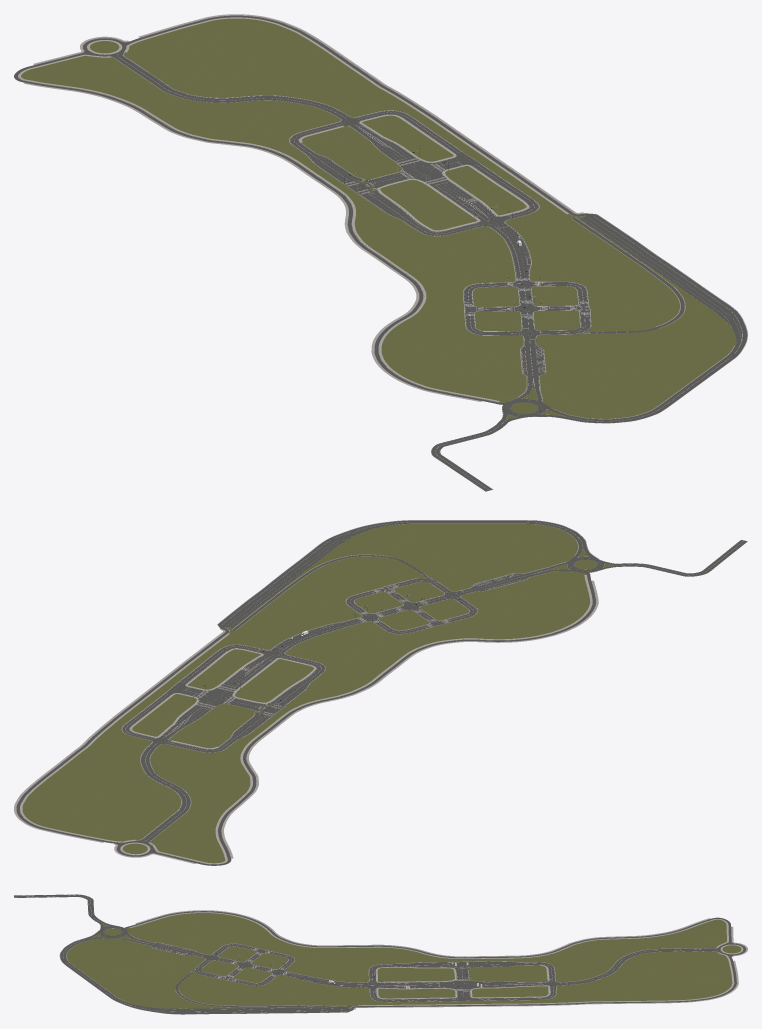
File: k_city.fbx
3 views of the same model, one above another, from view 1: azimuth 30°, elevation 25°; view 2: azimuth 150°, elevation 25°; view 3: azimuth 270°, elevation 25° (orthographic). The views are drawn at different scales.
Visible parts, largest first — view 1: Terrain_Ground_Layer0_3Node, Terrain_Ground_Layer0_5Node, Roads_Road_Layer0_3Node, Terrain_Ground_Layer0_2Node, Terrain_Ground_Layer0_1Node, Roads_Road_Layer0_5Node, Terrain_Ground_Layer0_4Node, Roads_Sidewalk_Layer0_1Node, Roads_Gutter_Layer0_3Node, Roads_Sidewalk_Layer0_3Node, Roads_Marking_Layer0_3Node, Roads_Road_Layer0Node (+9 smaller); view 2: Terrain_Ground_Layer0_3Node, Terrain_Ground_Layer0_5Node, Roads_Road_Layer0_3Node, Terrain_Ground_Layer0_2Node, Terrain_Ground_Layer0_1Node, Roads_Road_Layer0_5Node, Terrain_Ground_Layer0_4Node, Roads_Sidewalk_Layer0_1Node, Roads_Gutter_Layer0_3Node, Roads_Sidewalk_Layer0_3Node, Roads_Marking_Layer0_3Node, Roads_Road_Layer0Node (+9 smaller); view 3: Terrain_Ground_Layer0_3Node, Terrain_Ground_Layer0_5Node, Roads_Road_Layer0_3Node, Terrain_Ground_Layer0_2Node, Terrain_Ground_Layer0_1Node, Roads_Road_Layer0_5Node, Terrain_Ground_Layer0_4Node, Roads_Sidewalk_Layer0_1Node, Roads_Sidewalk_Layer0_3Node, Roads_Marking_Layer0_3Node, Roads_Gutter_Layer0_3Node, Roads_Road_Layer0Node (+9 smaller).
Boxes of the visible parts, <box> form: Terrain_Ground_Layer0_3Node: <box>312,136,736,390</box>; Terrain_Ground_Layer0_5Node: <box>90,18,453,170</box>; Roads_Road_Layer0_3Node: <box>306,134,747,378</box>; Terrain_Ground_Layer0_2Node: <box>381,297,554,402</box>; Terrain_Ground_Layer0_1Node: <box>555,347,732,418</box>; Roads_Road_Layer0_5Node: <box>83,15,459,171</box>; Terrain_Ground_Layer0_4Node: <box>21,55,209,138</box>; Roads_Sidewalk_Layer0_1Node: <box>304,134,583,334</box>; Roads_Gutter_Layer0_3Node: <box>306,134,747,379</box>; Roads_Sidewalk_Layer0_3Node: <box>81,14,462,172</box>; Roads_Marking_Layer0_3Node: <box>326,141,742,376</box>; Roads_Road_Layer0Node: <box>431,394,598,491</box>; Terrain_Ground_Layer0_3Node: <box>142,525,542,731</box>; Terrain_Ground_Layer0_5Node: <box>22,702,261,854</box>; Roads_Road_Layer0_3Node: <box>137,523,527,732</box>; Terrain_Ground_Layer0_2Node: <box>434,562,590,642</box>; Terrain_Ground_Layer0_1Node: <box>391,524,574,562</box>; Roads_Road_Layer0_5Node: <box>16,701,266,856</box>; Terrain_Ground_Layer0_4Node: <box>155,777,250,863</box>; Roads_Sidewalk_Layer0_1Node: <box>134,581,450,733</box>; Roads_Gutter_Layer0_3Node: <box>136,523,528,732</box>; Roads_Sidewalk_Layer0_3Node: <box>14,700,269,857</box>; Roads_Marking_Layer0_3Node: <box>151,524,521,727</box>; Roads_Road_Layer0Node: <box>555,535,747,576</box>; Terrain_Ground_Layer0_3Node: <box>126,944,499,1009</box>; Terrain_Ground_Layer0_5Node: <box>499,944,741,1003</box>; Roads_Road_Layer0_3Node: <box>126,945,499,1014</box>; Terrain_Ground_Layer0_2Node: <box>126,913,292,944</box>; Terrain_Ground_Layer0_1Node: <box>66,944,126,1001</box>; Roads_Road_Layer0_5Node: <box>499,945,745,1005</box>; Terrain_Ground_Layer0_4Node: <box>576,919,726,944</box>; Roads_Sidewalk_Layer0_1Node: <box>196,944,499,1009</box>; Roads_Sidewalk_Layer0_3Node: <box>499,944,747,1006</box>; Roads_Marking_Layer0_3Node: <box>130,945,498,1012</box>; Roads_Gutter_Layer0_3Node: <box>151,945,499,1014</box>; Roads_Road_Layer0Node: <box>14,894,126,944</box>.
Bounding box in the file's own units: 381 × 983 × 9.85.
51 materials, 43 textured.
